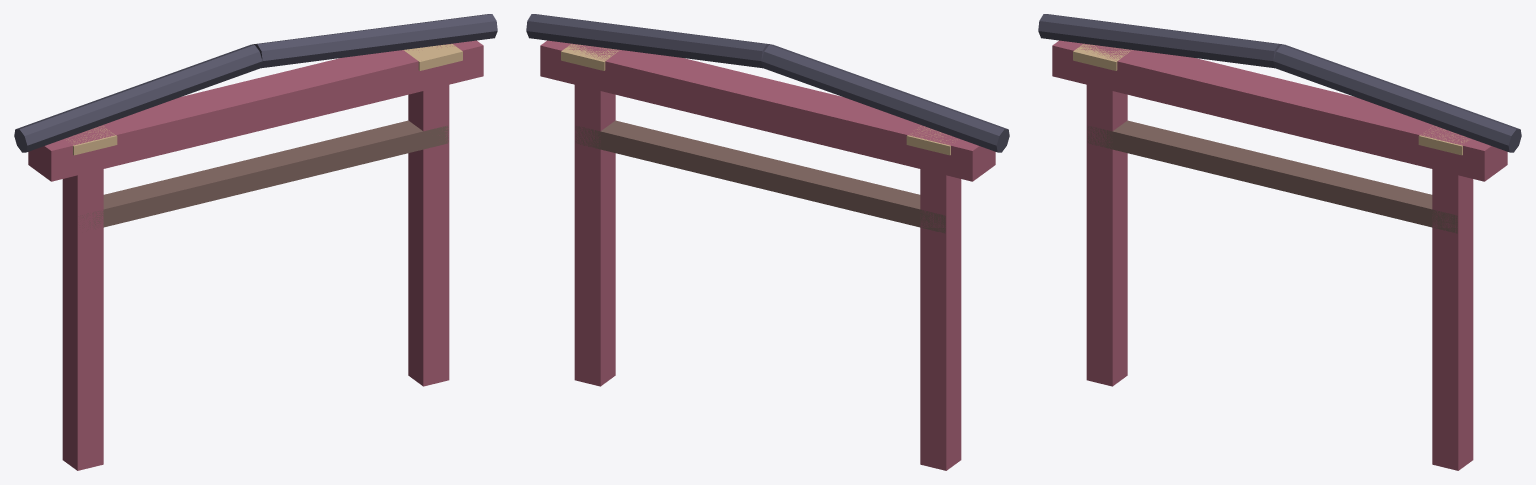
File: moonfall_torii.glb
3 renders of one model, left to right at view 1: azimuth 30°, elevation 25°; view 2: azimuth 150°, elevation 25°; view 3: azimuth 330°, elevation 25°, orthographic.
Visible parts, largest first — view 1: moonfall_torii_02, moonfall_torii_00, moonfall_torii_01, moonfall_torii_03, moonfall_torii_06, moonfall_torii_07, moonfall_torii_05, moonfall_torii_04; view 2: moonfall_torii_02, moonfall_torii_00, moonfall_torii_01, moonfall_torii_03, moonfall_torii_06, moonfall_torii_07, moonfall_torii_05, moonfall_torii_04; view 3: moonfall_torii_02, moonfall_torii_01, moonfall_torii_00, moonfall_torii_03, moonfall_torii_07, moonfall_torii_06, moonfall_torii_04, moonfall_torii_05.
Boxes of the visible parts, left/top/right/bottom form: moonfall_torii_02: left=28, top=40, right=483, bottom=181; moonfall_torii_00: left=62, top=169, right=103, bottom=470; moonfall_torii_01: left=408, top=85, right=449, bottom=386; moonfall_torii_03: left=78, top=120, right=448, bottom=229; moonfall_torii_06: left=14, top=44, right=262, bottom=152; moonfall_torii_07: left=252, top=14, right=497, bottom=68; moonfall_torii_05: left=403, top=44, right=462, bottom=70; moonfall_torii_04: left=66, top=126, right=117, bottom=155; moonfall_torii_02: left=540, top=40, right=995, bottom=181; moonfall_torii_00: left=920, top=169, right=961, bottom=470; moonfall_torii_01: left=574, top=85, right=615, bottom=386; moonfall_torii_03: left=575, top=120, right=945, bottom=233; moonfall_torii_06: left=761, top=44, right=1009, bottom=152; moonfall_torii_07: left=526, top=14, right=771, bottom=68; moonfall_torii_05: left=561, top=44, right=618, bottom=70; moonfall_torii_04: left=906, top=125, right=957, bottom=155; moonfall_torii_02: left=1052, top=40, right=1507, bottom=181; moonfall_torii_01: left=1432, top=169, right=1473, bottom=470; moonfall_torii_00: left=1086, top=85, right=1127, bottom=386; moonfall_torii_03: left=1087, top=120, right=1457, bottom=233; moonfall_torii_07: left=1273, top=44, right=1521, bottom=152; moonfall_torii_06: left=1038, top=14, right=1283, bottom=68; moonfall_torii_04: left=1073, top=44, right=1131, bottom=70; moonfall_torii_05: left=1418, top=125, right=1468, bottom=155.
Size of the model in its own units: 13.67 by 10.38 by 1.25.
